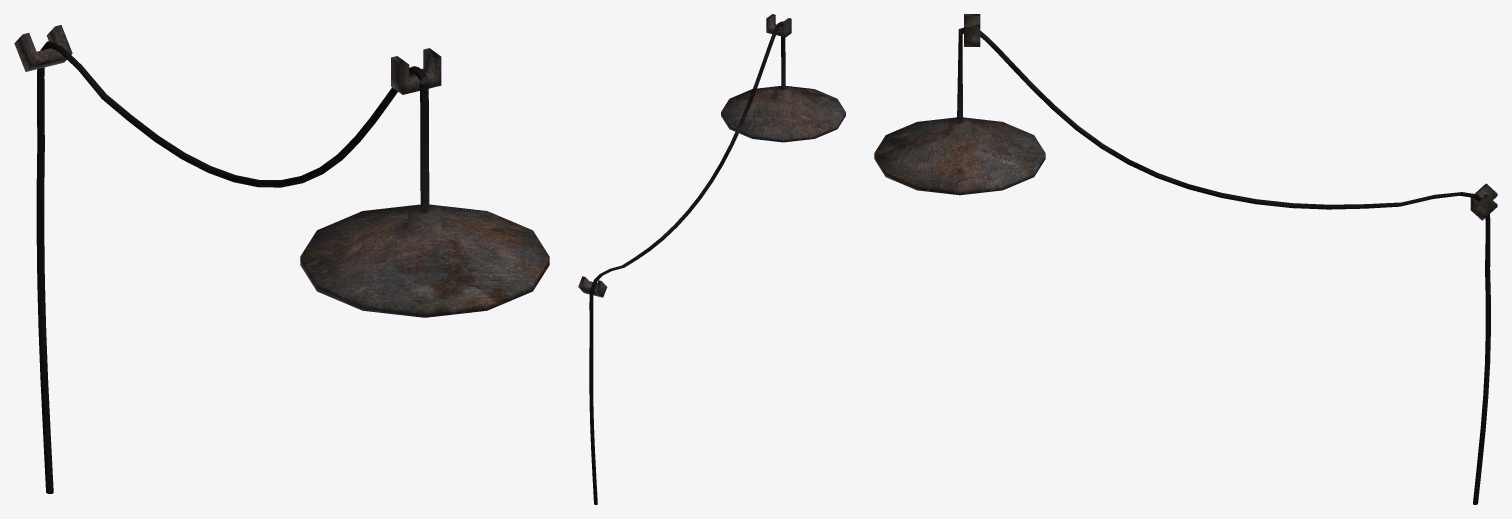
File: Lampada.fbx
3 renders of one model, left to right at view 1: azimuth 30°, elevation 25°; view 2: azimuth 150°, elevation 25°; view 3: azimuth 270°, elevation 25°, orthographic. The views are drawn at different scales.
Visible parts, largest first — view 1: Luminaria; view 2: Luminaria; view 3: Luminaria.
Part boxes in pixels (x1,y1,x2,y2): Luminaria: (14,25,549,493); Luminaria: (578,14,845,504); Luminaria: (874,14,1497,504).
Bounding box in the file's own units: 112 × 348 × 407.
